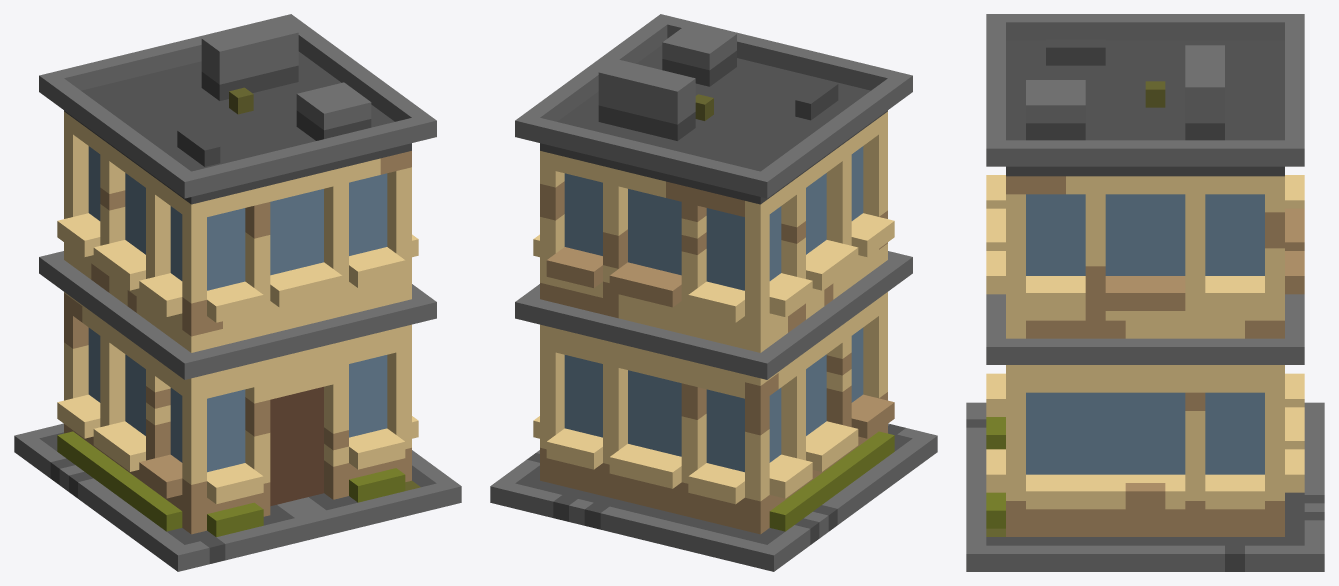
The picture shows the model from 3 angles, left to right: view 1: azimuth 30°, elevation 25°; view 2: azimuth 150°, elevation 25°; view 3: azimuth 270°, elevation 25°; orthographic projection. The views are drawn at different scales.
Parts seen in each view (by area): view 1: b_18_01; view 2: b_18_01; view 3: b_18_01.
Part boxes in pixels (x1=…): b_18_01: x1=14, y1=14, x2=461, y2=571; b_18_01: x1=490, y1=14, x2=937, y2=571; b_18_01: x1=966, y1=14, x2=1324, y2=571.
Size of the model in its own units: 18 by 25 by 18.
